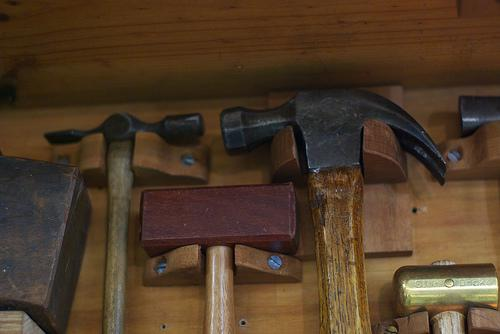hammer: (217, 82, 449, 333)
